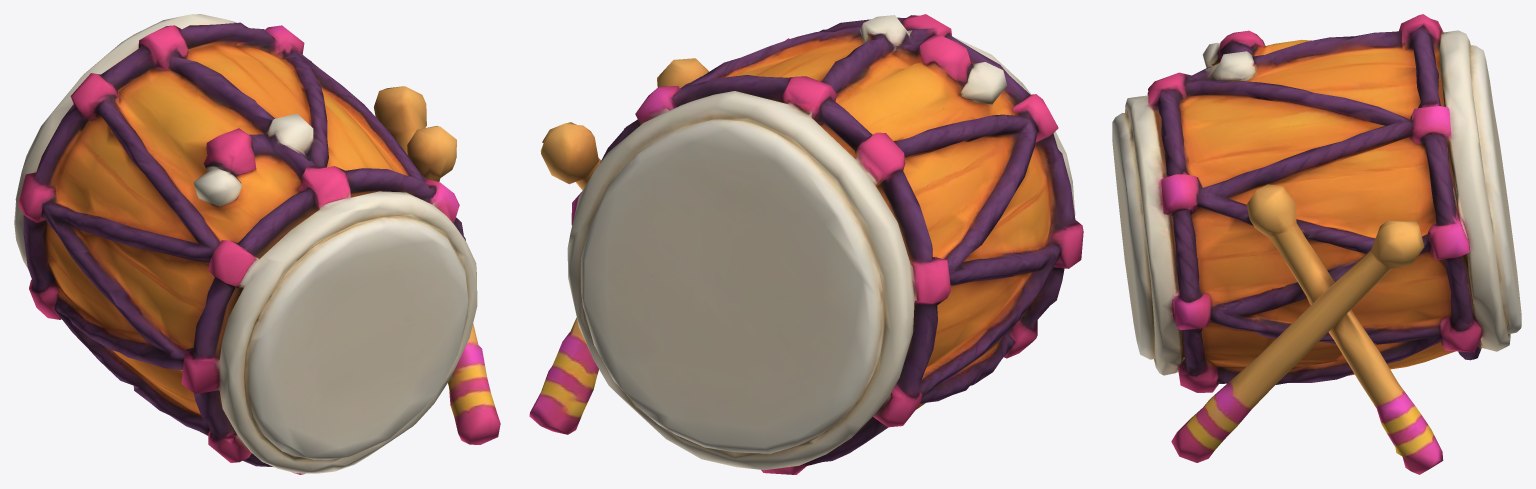
The model's file is powerup-dhol-beat.glb.
The picture shows the model from 3 angles, left to right: view 1: azimuth 30°, elevation 25°; view 2: azimuth 150°, elevation 25°; view 3: azimuth 270°, elevation 25°; orthographic projection. The views are drawn at different scales.
Visible parts, largest first — view 1: tripo_node_24ec2d3b-67d4-40b0-8ef2-a11706b1f37c; view 2: tripo_node_24ec2d3b-67d4-40b0-8ef2-a11706b1f37c; view 3: tripo_node_24ec2d3b-67d4-40b0-8ef2-a11706b1f37c.
Boxes of the visible parts, x1,y1,x2,y2 form: tripo_node_24ec2d3b-67d4-40b0-8ef2-a11706b1f37c: (14, 14, 500, 474); tripo_node_24ec2d3b-67d4-40b0-8ef2-a11706b1f37c: (529, 14, 1083, 474); tripo_node_24ec2d3b-67d4-40b0-8ef2-a11706b1f37c: (1112, 14, 1521, 474).
Bounding box in the file's own units: 1 × 0.9377 × 0.986.
Materials: 1 (1 with a texture image).
